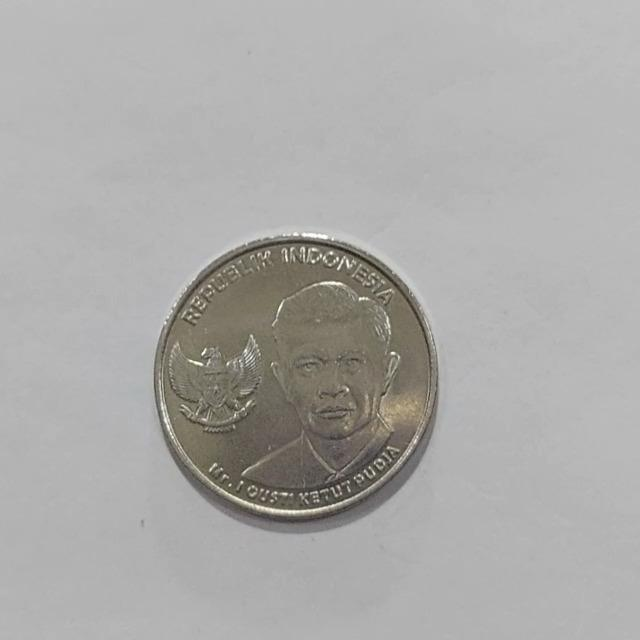Rp100: (153, 230, 439, 523), (234, 276, 405, 495)
